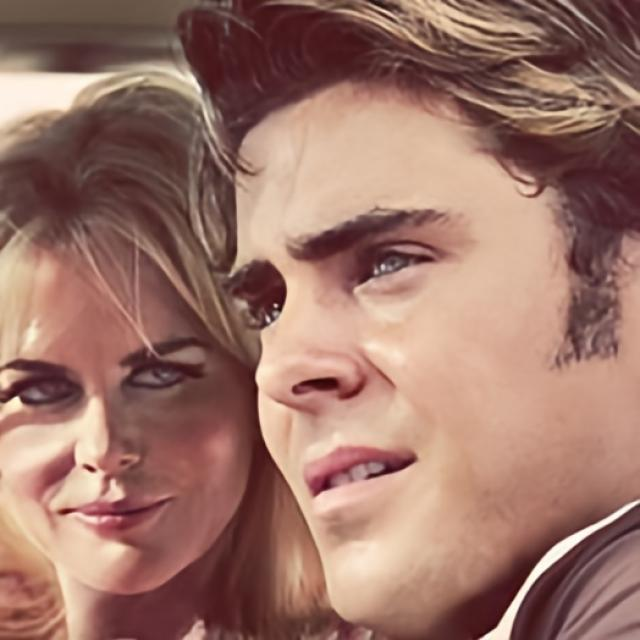disgust: (218, 52, 640, 640), (0, 207, 256, 596)
